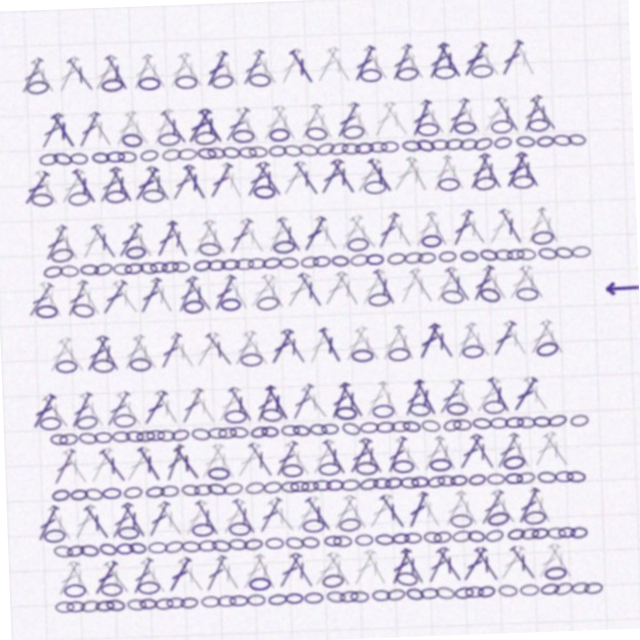chain: (479, 292, 503, 311), (534, 349, 558, 366), (479, 517, 503, 534), (72, 294, 96, 310), (220, 70, 243, 86), (312, 126, 335, 142), (53, 238, 76, 254), (442, 294, 465, 310), (72, 406, 95, 422), (386, 574, 409, 590), (35, 70, 58, 85), (405, 70, 428, 85), (349, 126, 372, 141), (479, 182, 502, 197), (201, 238, 224, 253), (257, 294, 280, 309), (257, 406, 280, 421), (405, 406, 428, 421), (497, 462, 520, 477), (516, 518, 539, 533), (312, 574, 335, 589), (479, 142, 500, 158), (128, 126, 150, 141), (424, 590, 446, 605), (257, 71, 280, 85), (201, 127, 224, 141), (35, 183, 58, 197), (534, 239, 557, 253), (331, 407, 354, 421), (331, 519, 354, 533), (337, 422, 357, 438), (58, 142, 79, 157), (335, 142, 356, 157), (95, 254, 116, 269), (543, 422, 564, 437), (200, 478, 221, 493), (543, 590, 564, 605), (110, 71, 132, 85), (165, 127, 187, 141), (73, 183, 95, 197), (147, 183, 169, 197), (258, 183, 280, 197), (276, 239, 298, 253), (350, 239, 372, 253), (369, 295, 391, 309), (517, 295, 539, 309), (91, 351, 113, 365), (128, 351, 150, 365), (443, 407, 465, 421), (202, 463, 224, 477), (350, 463, 372, 477), (36, 519, 58, 533), (110, 519, 132, 533), (221, 519, 243, 533), (443, 519, 465, 533), (91, 575, 113, 589), (535, 575, 557, 589), (322, 142, 342, 157), (422, 142, 442, 157), (481, 254, 501, 269), (90, 534, 110, 549), (156, 534, 176, 549), (395, 590, 415, 605), (128, 239, 149, 253), (184, 295, 205, 309), (147, 71, 169, 84), (184, 71, 206, 84), (369, 71, 391, 84), (443, 71, 465, 84), (480, 71, 502, 84), (239, 127, 261, 140), (424, 127, 446, 140), (461, 127, 483, 140), (498, 127, 520, 140), (535, 127, 557, 140), (110, 183, 132, 196), (369, 183, 391, 196), (443, 183, 465, 196), (517, 183, 539, 196), (36, 295, 58, 308), (54, 351, 76, 364), (239, 351, 261, 364), (350, 351, 372, 364), (387, 351, 409, 364), (461, 351, 483, 364), (36, 407, 58, 420), (110, 407, 132, 420), (221, 407, 243, 420), (369, 407, 391, 420), (480, 407, 502, 420), (276, 463, 298, 476), (313, 463, 335, 476), (387, 463, 409, 476), (424, 463, 446, 476), (184, 519, 206, 532), (295, 519, 317, 532), (54, 575, 76, 588), (128, 575, 150, 588), (239, 575, 261, 588), (289, 143, 309, 157), (305, 143, 325, 157), (45, 255, 65, 269), (540, 255, 560, 269), (74, 423, 94, 437), (187, 423, 207, 437), (417, 423, 437, 437), (353, 479, 373, 493), (45, 535, 65, 549), (71, 535, 91, 549), (203, 535, 223, 549), (276, 127, 297, 140), (424, 239, 445, 252), (221, 295, 242, 308), (141, 255, 160, 269), (557, 255, 576, 269), (167, 423, 186, 437), (246, 423, 265, 437), (288, 423, 307, 437), (398, 423, 417, 437), (439, 423, 458, 437), (78, 479, 97, 493), (421, 479, 440, 493), (58, 535, 77, 549), (277, 535, 296, 549), (459, 535, 478, 549), (477, 535, 496, 549), (45, 143, 65, 156), (168, 143, 188, 156), (203, 143, 223, 156), (408, 143, 428, 156), (451, 143, 471, 156), (522, 143, 542, 156), (559, 143, 579, 156), (264, 255, 284, 268), (352, 255, 372, 268), (389, 255, 409, 268), (406, 255, 426, 268), (225, 423, 245, 436), (468, 423, 488, 436), (117, 479, 137, 492), (217, 479, 237, 492), (239, 479, 259, 492), (510, 479, 530, 492), (531, 479, 551, 492), (220, 535, 240, 548), (444, 535, 464, 548), (512, 535, 532, 548), (70, 591, 90, 604), (95, 591, 115, 604), (316, 591, 336, 604), (329, 591, 349, 604), (376, 591, 396, 604), (488, 591, 508, 604), (530, 591, 550, 604), (146, 143, 165, 156), (213, 143, 232, 156), (228, 143, 247, 156), (500, 143, 519, 156), (574, 143, 593, 156), (163, 255, 182, 268), (195, 255, 214, 268), (121, 423, 140, 436), (305, 423, 324, 436), (45, 479, 64, 492), (175, 479, 194, 492), (257, 479, 276, 492), (378, 479, 397, 492), (431, 479, 450, 492), (462, 479, 481, 492), (120, 535, 139, 548), (415, 535, 434, 548), (425, 535, 444, 548), (499, 535, 518, 548), (523, 535, 542, 548), (467, 591, 486, 604), (561, 591, 580, 604), (126, 256, 146, 268), (139, 480, 159, 492), (560, 480, 580, 492), (173, 536, 193, 548), (235, 536, 255, 548), (444, 592, 464, 604), (124, 144, 143, 156), (255, 144, 274, 156), (348, 144, 367, 156), (361, 144, 380, 156), (62, 256, 81, 268), (115, 256, 134, 268), (282, 256, 301, 268), (333, 256, 352, 268), (462, 256, 481, 268), (519, 256, 538, 268), (55, 424, 74, 436), (132, 424, 151, 436), (449, 424, 468, 436), (513, 424, 532, 436), (566, 424, 585, 436), (335, 480, 354, 492), (394, 480, 413, 492), (293, 536, 312, 548), (325, 536, 344, 548), (367, 536, 386, 548), (539, 536, 558, 548), (85, 592, 104, 604), (117, 592, 136, 604), (258, 592, 277, 604), (340, 592, 359, 604), (574, 592, 593, 604), (76, 144, 94, 156), (98, 144, 116, 156), (245, 144, 263, 156), (466, 144, 484, 156), (543, 144, 561, 156), (174, 256, 192, 268), (303, 256, 321, 268), (420, 256, 438, 268), (497, 256, 515, 268), (509, 256, 527, 268), (46, 424, 64, 436), (153, 424, 171, 436), (257, 424, 275, 436), (529, 424, 547, 436), (64, 480, 82, 492), (275, 480, 293, 492), (295, 480, 313, 492), (562, 536, 580, 548), (145, 592, 163, 604), (170, 592, 188, 604), (112, 144, 131, 155), (184, 144, 203, 155), (375, 144, 394, 155), (437, 144, 456, 155), (82, 256, 101, 267), (223, 256, 242, 267), (237, 256, 256, 267), (574, 256, 593, 267), (142, 424, 161, 435), (204, 424, 223, 435), (214, 424, 233, 435), (277, 424, 296, 435), (356, 424, 375, 435), (372, 424, 391, 435), (387, 424, 406, 435), (501, 424, 520, 435), (96, 480, 115, 491), (154, 480, 173, 491), (284, 480, 303, 491), (549, 480, 568, 491), (140, 536, 159, 547), (190, 536, 209, 547), (257, 536, 276, 547), (45, 592, 64, 603), (56, 592, 75, 603), (156, 592, 175, 603), (191, 592, 210, 603), (207, 592, 226, 603), (219, 592, 238, 603), (294, 592, 313, 603), (410, 592, 429, 603), (455, 592, 474, 603), (510, 592, 529, 603), (275, 144, 293, 155), (387, 144, 405, 155), (152, 256, 170, 267), (210, 256, 228, 267), (250, 256, 268, 267), (315, 256, 333, 267), (368, 256, 386, 267), (441, 256, 459, 267), (90, 424, 108, 435), (108, 424, 126, 435), (317, 424, 335, 435), (486, 424, 504, 435), (188, 480, 206, 491), (307, 480, 325, 491), (320, 480, 338, 491), (367, 480, 385, 491), (405, 480, 423, 491), (444, 480, 462, 491), (481, 480, 499, 491), (499, 480, 517, 491), (108, 536, 126, 547), (316, 536, 334, 547), (347, 536, 365, 547), (384, 536, 402, 547), (396, 536, 414, 547), (550, 536, 568, 547), (129, 592, 147, 603), (237, 592, 255, 603), (275, 592, 293, 603), (362, 592, 380, 603)
double: (258, 495, 291, 533), (301, 551, 334, 589), (74, 47, 106, 85), (481, 47, 513, 85), (228, 103, 260, 141), (25, 159, 57, 197), (358, 159, 390, 197), (351, 215, 383, 253), (25, 271, 57, 309), (99, 271, 131, 309), (111, 271, 143, 309), (55, 327, 87, 365), (37, 383, 69, 421), (296, 383, 328, 421), (432, 383, 464, 421), (469, 383, 501, 421), (506, 383, 538, 421), (92, 439, 124, 477), (166, 439, 198, 477), (166, 551, 198, 589), (487, 551, 519, 589), (185, 46, 216, 85), (469, 46, 500, 85), (425, 102, 456, 141), (259, 158, 290, 197), (284, 158, 315, 197), (92, 214, 123, 253), (117, 214, 148, 253), (228, 214, 259, 253), (462, 214, 493, 253), (321, 270, 352, 309), (444, 270, 475, 309), (481, 270, 512, 309), (191, 326, 222, 365), (25, 382, 56, 421), (74, 382, 105, 421), (99, 382, 130, 421), (518, 382, 549, 421), (55, 438, 86, 477), (388, 438, 419, 477), (450, 438, 481, 477), (148, 494, 179, 533), (358, 494, 389, 533), (265, 550, 296, 589), (425, 550, 456, 589), (247, 271, 279, 308), (166, 103, 197, 141), (191, 103, 222, 141), (487, 103, 518, 141), (536, 103, 567, 141), (62, 159, 93, 197), (136, 159, 167, 197), (395, 159, 426, 197), (185, 271, 216, 309), (284, 271, 315, 309), (506, 271, 537, 309), (518, 271, 549, 309), (240, 327, 271, 365), (462, 327, 493, 365), (111, 383, 142, 421), (117, 439, 148, 477), (228, 439, 259, 477), (536, 439, 567, 477), (296, 495, 327, 533), (92, 551, 123, 589), (129, 551, 160, 589), (450, 551, 481, 589), (499, 551, 530, 589), (100, 46, 130, 85), (149, 46, 179, 85), (260, 46, 290, 85), (322, 46, 352, 85), (371, 46, 401, 85), (44, 102, 74, 141), (56, 102, 86, 141), (93, 102, 123, 141), (340, 102, 370, 141), (500, 102, 530, 141), (75, 158, 105, 197), (100, 158, 130, 197), (211, 158, 241, 197), (248, 158, 278, 197), (322, 158, 352, 197), (334, 158, 364, 197), (371, 158, 401, 197), (192, 214, 222, 253), (241, 214, 271, 253), (278, 214, 308, 253), (315, 214, 345, 253), (389, 214, 419, 253), (297, 270, 327, 309), (334, 270, 364, 309), (359, 270, 389, 309), (408, 270, 438, 309), (44, 326, 74, 365), (81, 326, 111, 365), (229, 326, 259, 365), (266, 326, 296, 365), (278, 326, 308, 365), (340, 326, 370, 365), (377, 326, 407, 365), (426, 326, 456, 365), (488, 326, 518, 365), (500, 326, 530, 365), (525, 326, 555, 365), (149, 382, 179, 421), (186, 382, 216, 421), (211, 382, 241, 421), (223, 382, 253, 421), (334, 382, 364, 421), (445, 382, 475, 421), (81, 438, 111, 477), (192, 438, 222, 477), (241, 438, 271, 477), (266, 438, 296, 477), (303, 438, 333, 477), (340, 438, 370, 477), (463, 438, 493, 477), (525, 438, 555, 477), (38, 494, 68, 533), (112, 494, 142, 533), (248, 494, 278, 533), (285, 494, 315, 533), (322, 494, 352, 533), (334, 494, 364, 533), (482, 494, 512, 533), (44, 550, 74, 589), (155, 550, 185, 589), (204, 550, 234, 589), (229, 550, 259, 589), (278, 550, 308, 589), (315, 550, 345, 589), (340, 550, 370, 589), (537, 550, 567, 589), (203, 327, 234, 364), (130, 103, 160, 141), (266, 103, 296, 141), (389, 103, 419, 141), (297, 159, 327, 197), (167, 327, 197, 365), (352, 327, 382, 365), (137, 383, 167, 421), (278, 439, 308, 477), (75, 495, 105, 533), (211, 495, 241, 533), (371, 495, 401, 533), (470, 495, 500, 533), (81, 551, 111, 589), (463, 551, 493, 589), (525, 551, 555, 589), (112, 46, 141, 85), (248, 46, 277, 85), (359, 46, 388, 85), (408, 46, 437, 85), (445, 46, 474, 85), (507, 46, 536, 85), (278, 102, 307, 141), (451, 102, 480, 141), (463, 102, 492, 141), (38, 158, 67, 197), (186, 158, 215, 197), (482, 158, 511, 197), (507, 158, 536, 197), (519, 158, 548, 197), (44, 214, 73, 253), (81, 214, 110, 253), (155, 214, 184, 253), (204, 214, 233, 253), (377, 214, 406, 253), (500, 214, 529, 253), (38, 270, 67, 309), (137, 270, 166, 309), (149, 270, 178, 309), (211, 270, 240, 309), (260, 270, 289, 309), (433, 270, 462, 309), (470, 270, 499, 309), (93, 326, 122, 365), (155, 326, 184, 365), (414, 326, 443, 365), (260, 382, 289, 421), (285, 382, 314, 421), (359, 382, 388, 421), (130, 438, 159, 477), (352, 438, 381, 477), (26, 494, 55, 533), (63, 494, 92, 533), (100, 494, 129, 533), (137, 494, 166, 533), (186, 494, 215, 533), (223, 494, 252, 533), (408, 494, 437, 533), (507, 494, 536, 533), (56, 550, 85, 589), (192, 550, 221, 589), (38, 47, 67, 85), (223, 47, 252, 85), (297, 47, 326, 85), (334, 47, 363, 85), (204, 103, 233, 141), (241, 103, 270, 141), (377, 103, 406, 141), (174, 159, 203, 197), (56, 215, 85, 253), (130, 215, 159, 253), (303, 215, 332, 253), (340, 215, 369, 253), (488, 215, 517, 253), (130, 327, 159, 365), (537, 327, 566, 365), (414, 439, 443, 477), (488, 439, 517, 477), (174, 495, 203, 533), (27, 46, 55, 85), (64, 46, 92, 85), (175, 46, 203, 85), (212, 46, 240, 85), (286, 46, 314, 85), (397, 46, 425, 85), (434, 46, 462, 85), (82, 102, 110, 141), (119, 102, 147, 141), (156, 102, 184, 141), (304, 102, 332, 141), (316, 102, 344, 141), (353, 102, 381, 141), (113, 158, 141, 197), (150, 158, 178, 197), (471, 158, 499, 197), (267, 214, 295, 253), (415, 214, 443, 253), (452, 214, 480, 253), (538, 214, 566, 253), (64, 270, 92, 309), (76, 270, 104, 309), (224, 270, 252, 309), (372, 270, 400, 309), (397, 270, 425, 309), (119, 326, 147, 365), (304, 326, 332, 365), (316, 326, 344, 365), (64, 382, 92, 421), (175, 382, 203, 421), (409, 382, 437, 421), (45, 438, 73, 477), (205, 438, 233, 477), (316, 438, 344, 477), (427, 438, 455, 477), (434, 494, 462, 533), (446, 494, 474, 533), (520, 494, 548, 533), (119, 550, 147, 589), (390, 550, 418, 589), (415, 550, 443, 589), (415, 102, 442, 142), (434, 158, 461, 198), (168, 214, 195, 254), (249, 382, 276, 422), (138, 46, 165, 85), (224, 158, 251, 197), (409, 158, 436, 197), (446, 158, 473, 197), (427, 214, 454, 253), (175, 270, 202, 309), (452, 326, 479, 365), (483, 382, 510, 421), (378, 438, 405, 477), (501, 438, 528, 477), (397, 494, 424, 533), (353, 550, 380, 589), (378, 550, 405, 589), (521, 46, 547, 85), (527, 102, 553, 141), (527, 214, 553, 253), (391, 326, 417, 365), (324, 382, 350, 421), (373, 382, 399, 421), (398, 382, 424, 421), (243, 550, 269, 589), (157, 438, 182, 477)
noise: (604, 292, 640, 306)
